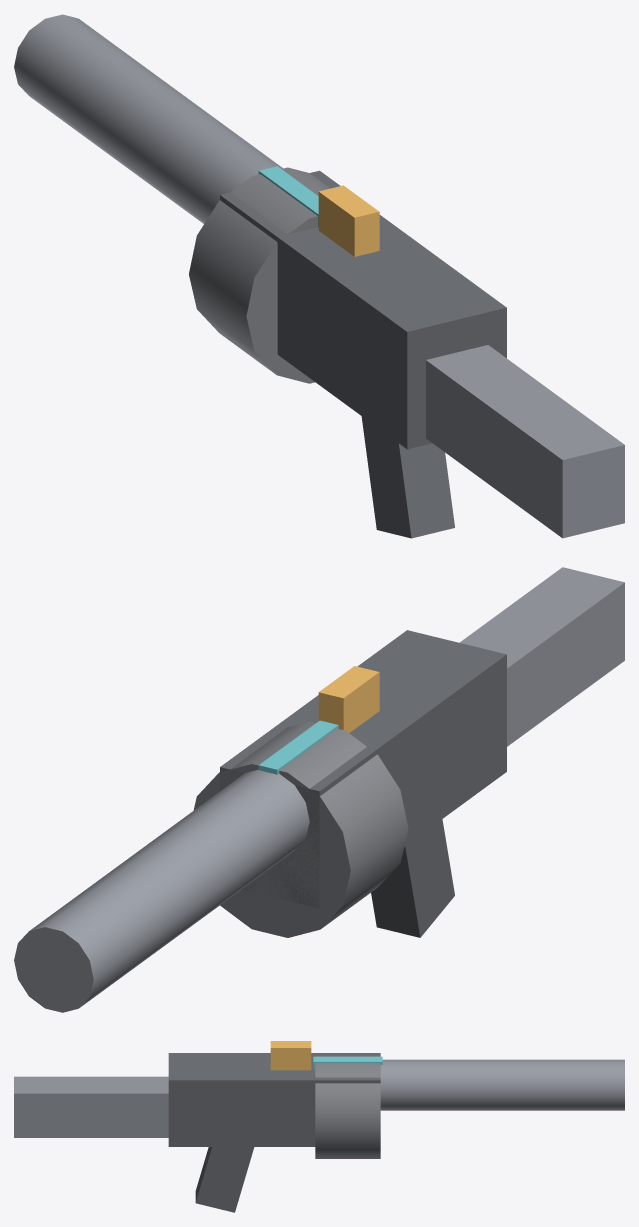
File: launcher.glb
3 renders of one model, top to bottom at view 1: azimuth 30°, elevation 25°; view 2: azimuth 150°, elevation 25°; view 3: azimuth 270°, elevation 25°, orthographic. The views are drawn at different scales.
Visible parts, largest first — view 1: body, stock, barrel, drum, grip, sight, drum_mark; view 2: barrel, body, drum, stock, grip, sight, drum_mark; view 3: body, barrel, stock, drum, grip, sight, drum_mark.
Part boxes in pixels (x1,y1,x2,y2): body: (220,170,506,449); stock: (426,345,624,538); barrel: (14,14,283,223); drum: (189,167,330,383); grip: (361,416,454,538); sight: (318,185,379,256); drum_mark: (258,166,318,227); barrel: (14,769,309,1012); body: (220,630,506,908); drum: (193,722,408,937); stock: (459,567,624,746); grip: (371,819,454,937); sight: (318,666,379,732); drum_mark: (258,720,338,774); body: (168,1053,380,1146); barrel: (380,1059,624,1110); stock: (14,1076,168,1137); drum: (315,1055,380,1158); grip: (195,1147,254,1212); sight: (270,1041,311,1070); drum_mark: (313,1056,382,1069).
Size of the model in its own units: 0.13 by 0.2198 by 0.75.
